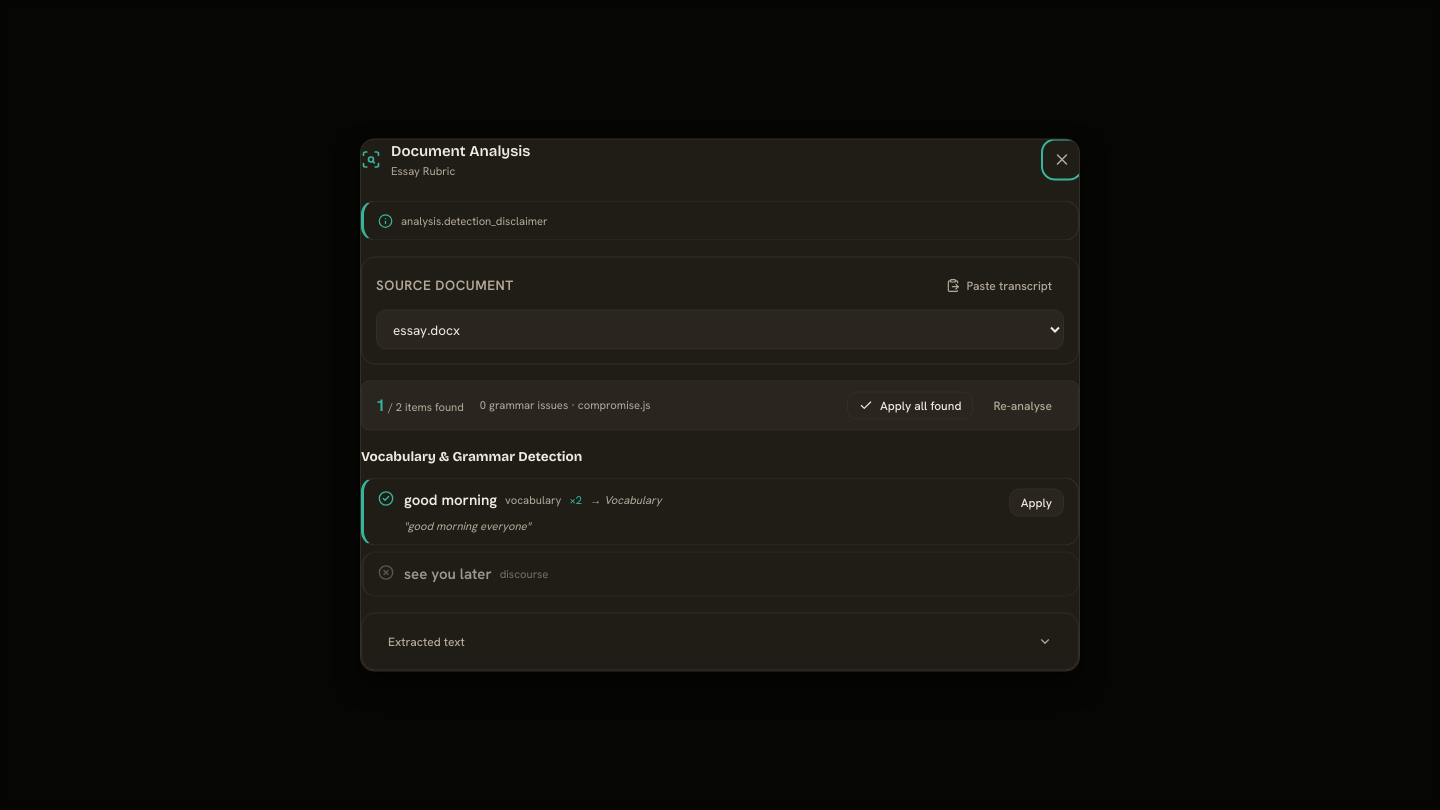
Scenario: DocumentAnalysisPanel › shows a placeholder when extracted text is empty
Click the button "Extracted text": x=426, y=641 [376,628,1064,656]
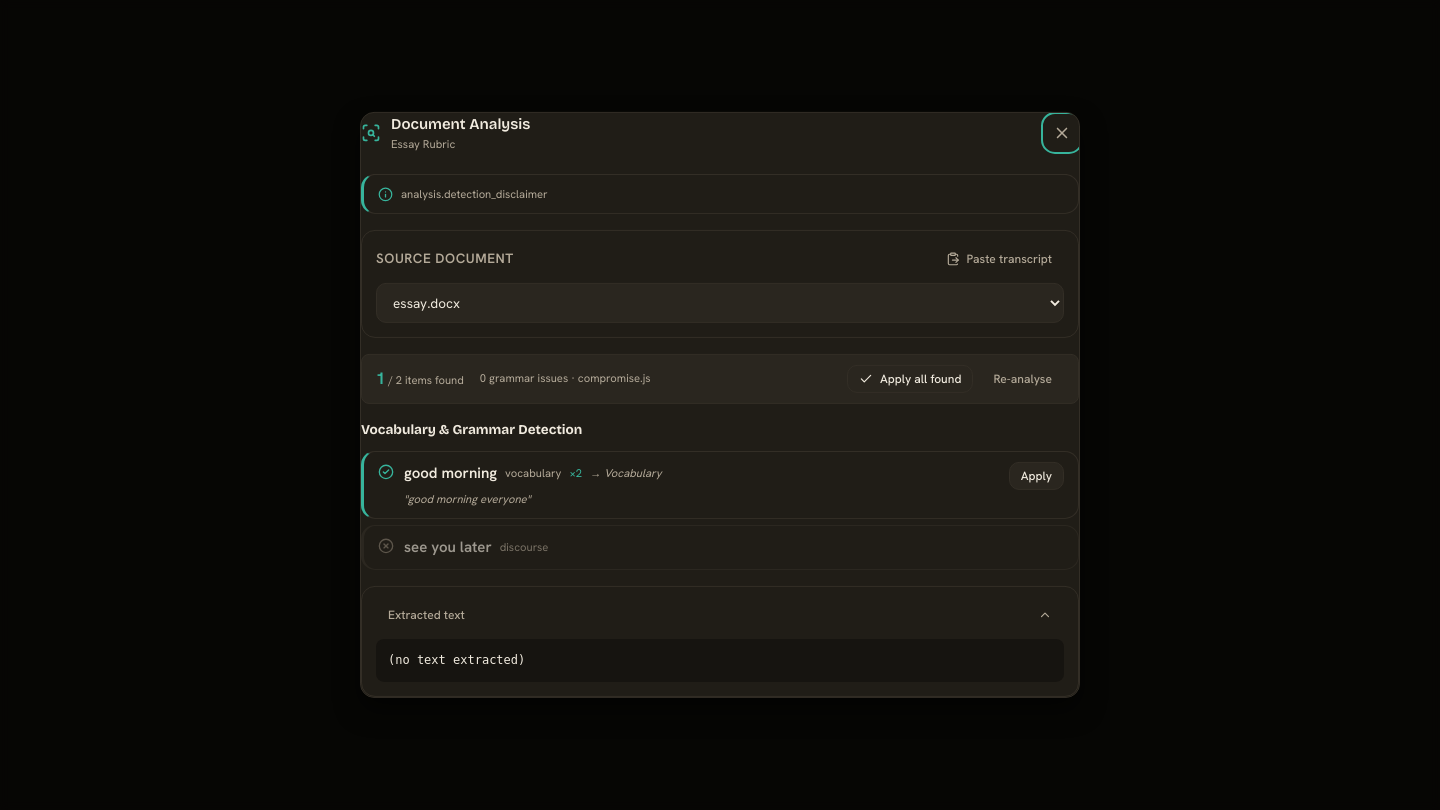
Now the text "(no text extracted)" is shown, box [376,639,1064,682]
